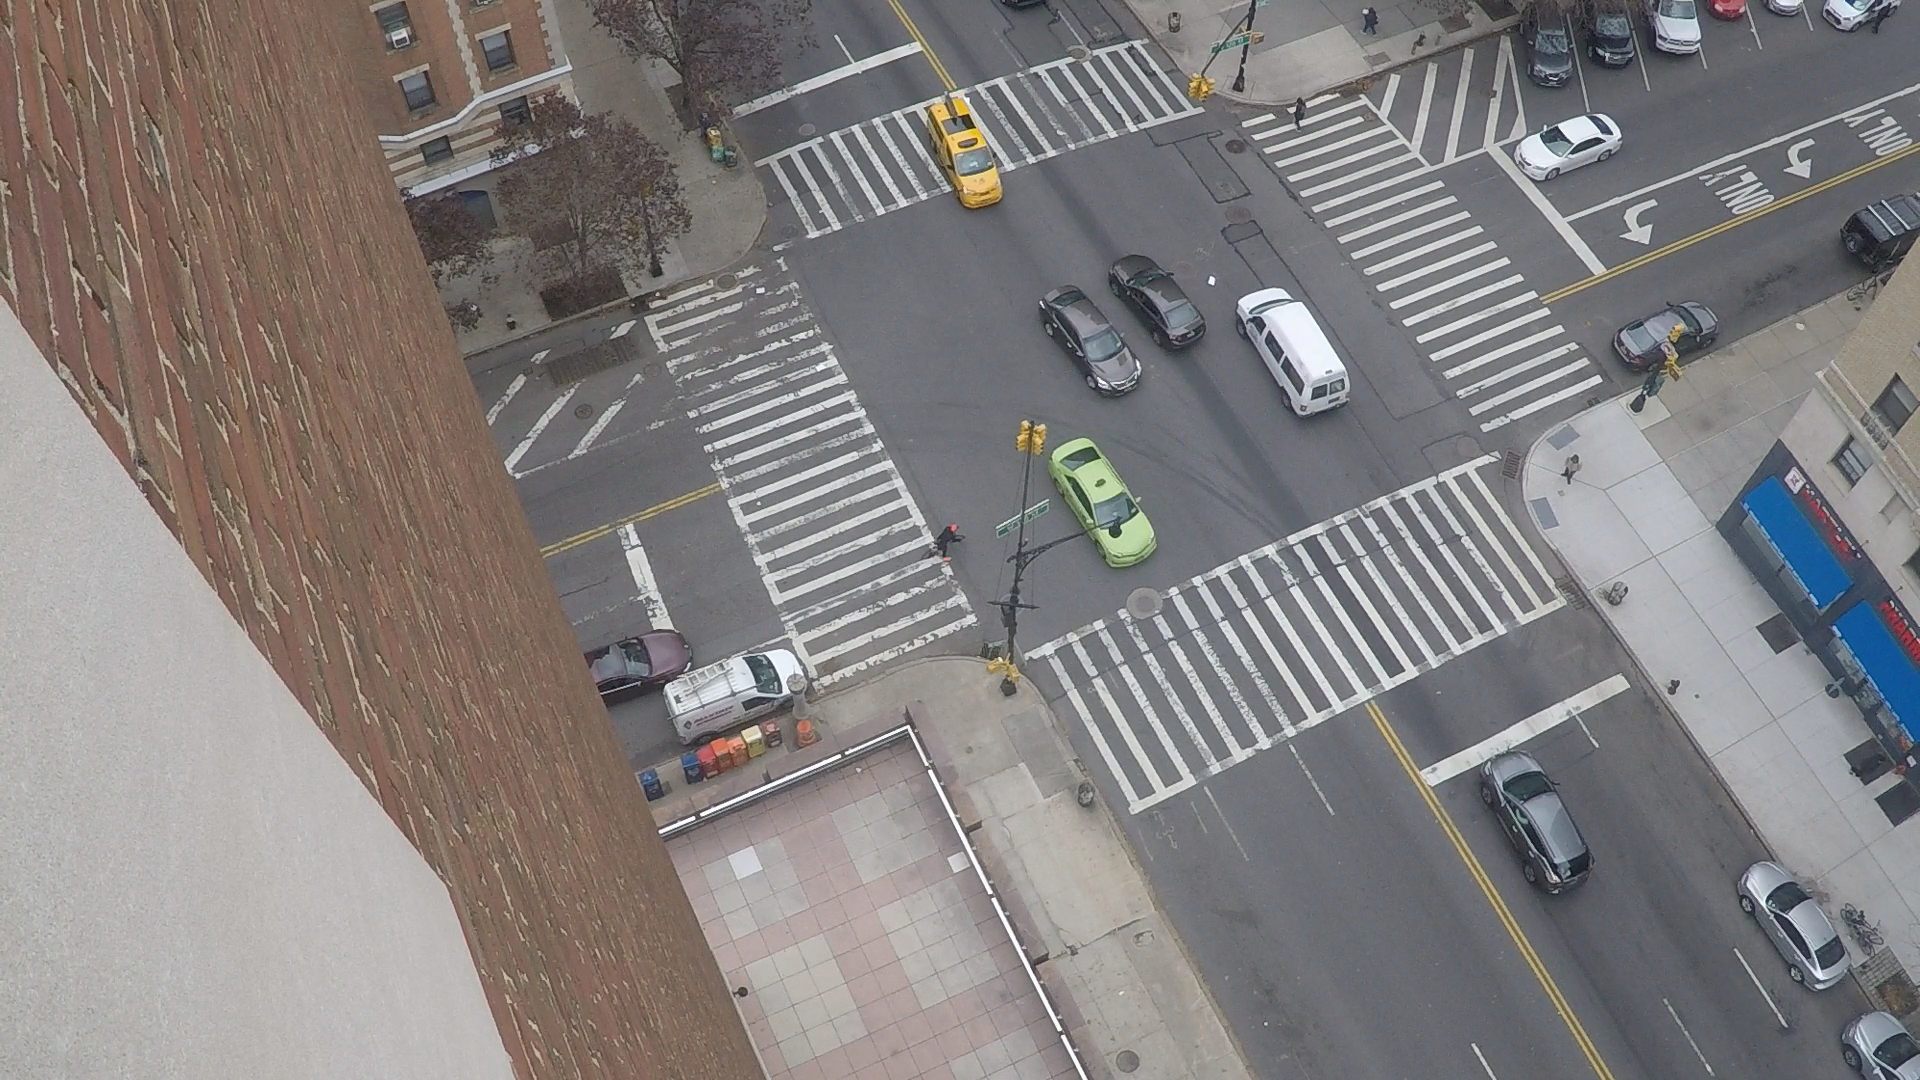Car: (1000, 0, 1015, 11), (1129, 488, 1135, 497), (1760, 0, 1764, 5), (1643, 0, 1644, 9), (1704, 0, 1705, 7)
